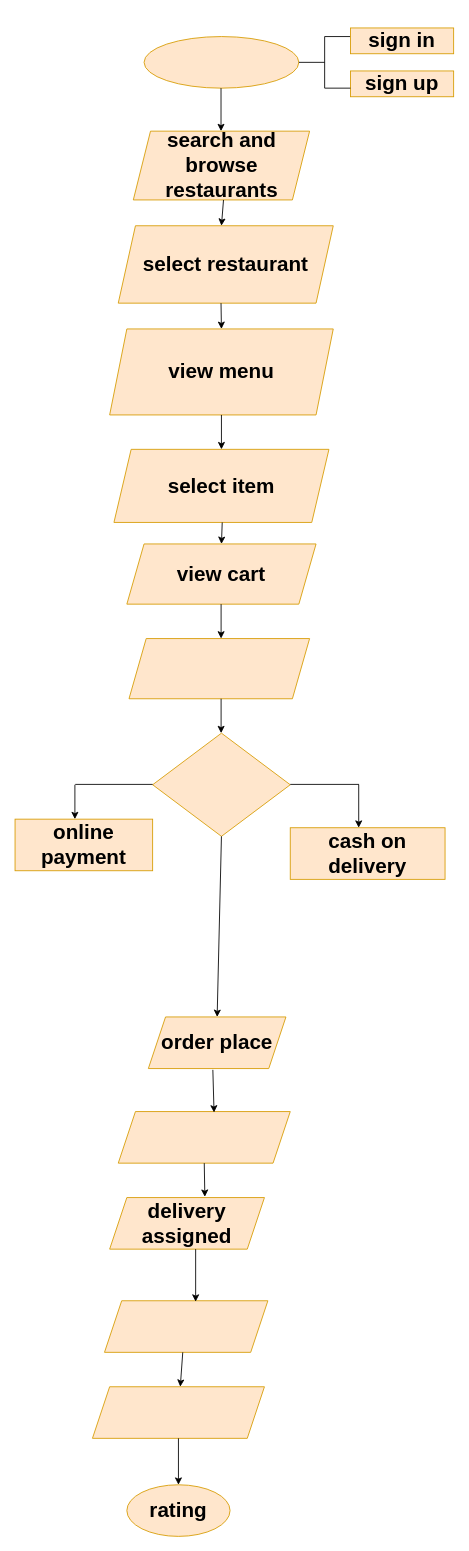
Image size: 469x1551. Some labels were removed from this diagram. Each missing label, with the box of its shape:
checkout: (128, 638, 310, 699)
food delivery: (92, 1386, 264, 1438)
loging: (143, 36, 299, 88)
make a payment: (152, 732, 290, 836)
restaurant prepared food: (117, 1111, 290, 1163)
track delivery: (104, 1300, 268, 1352)
